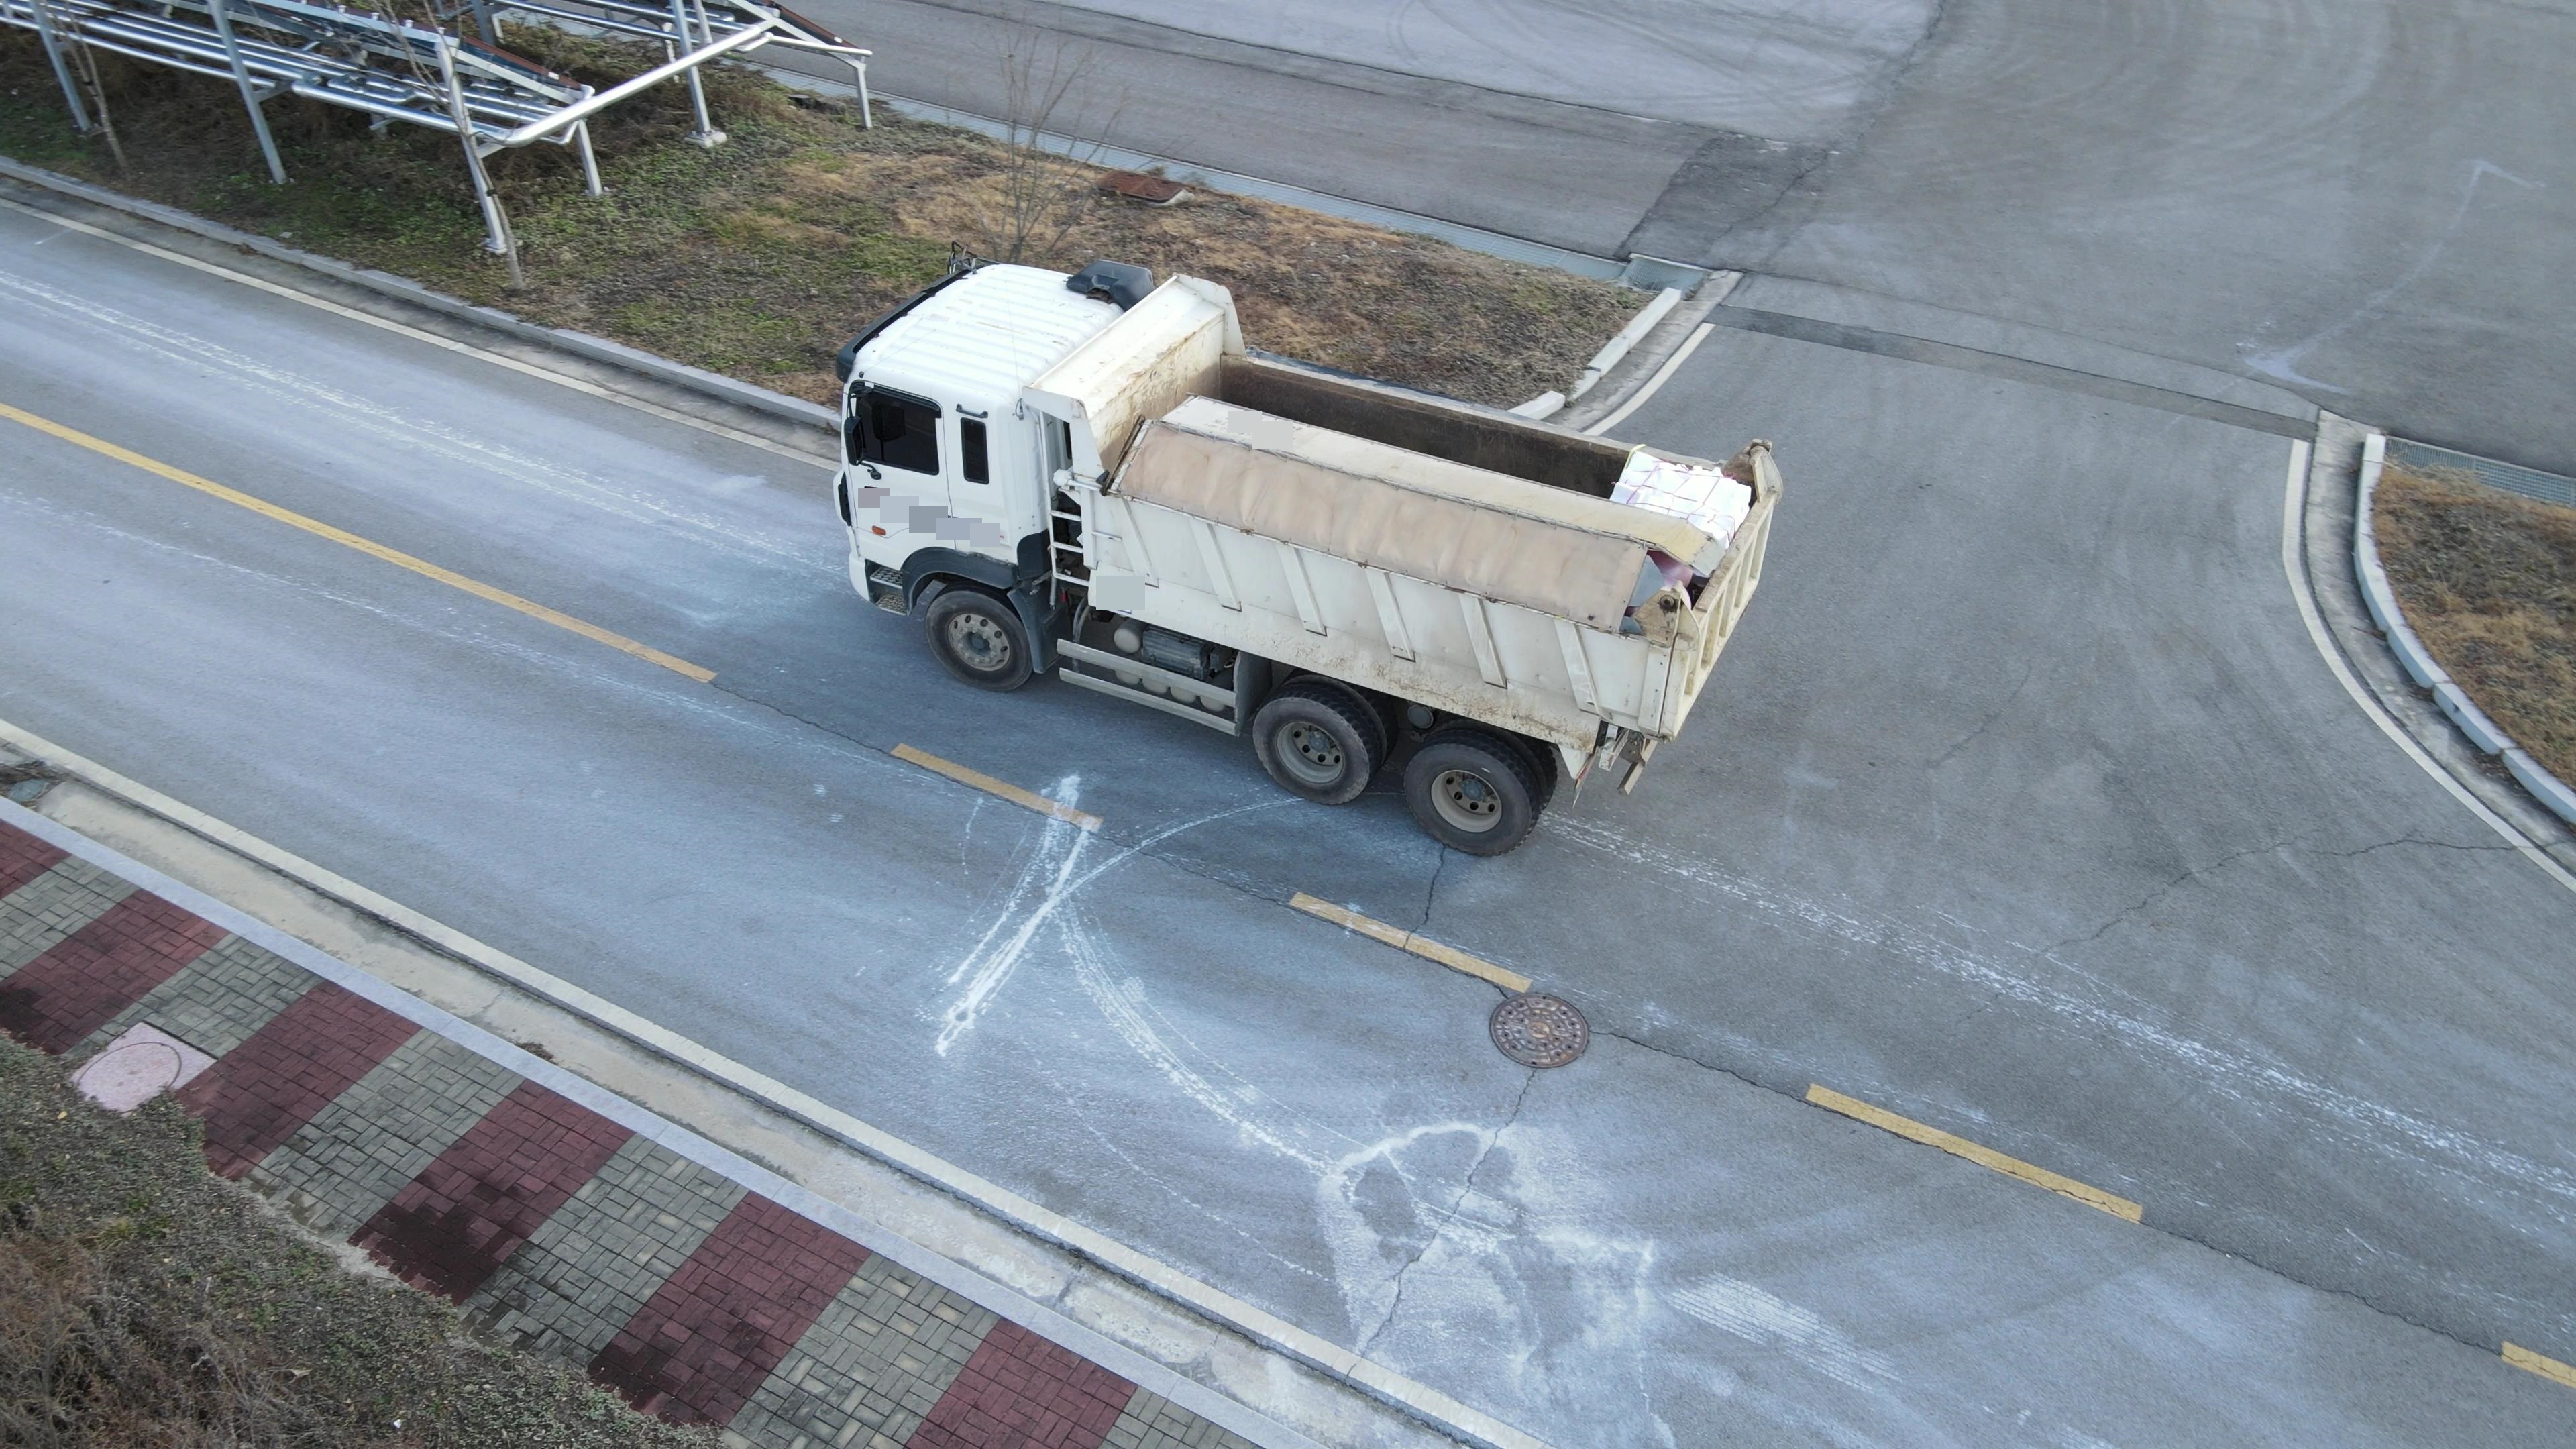불법차량: (833, 241, 1783, 856)
